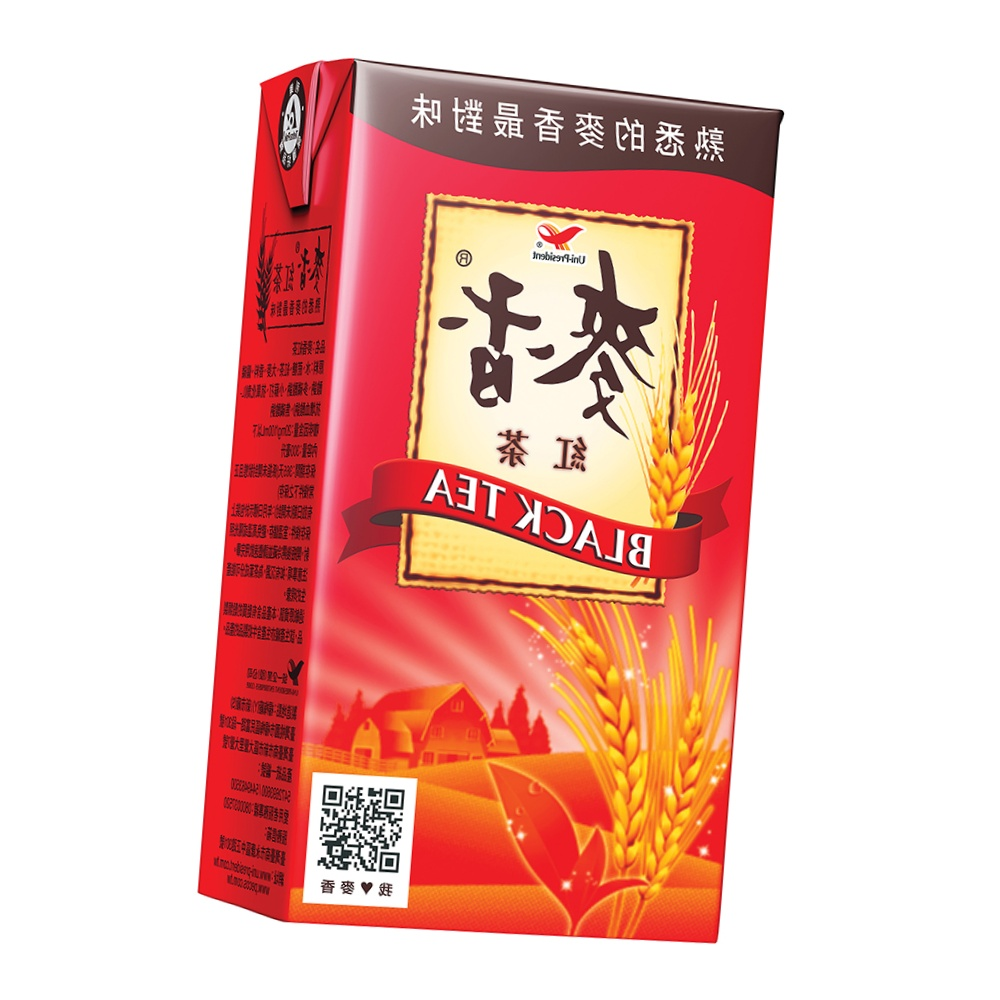鋁箔包: (177, 42, 805, 967), (103, 988, 731, 1000)
